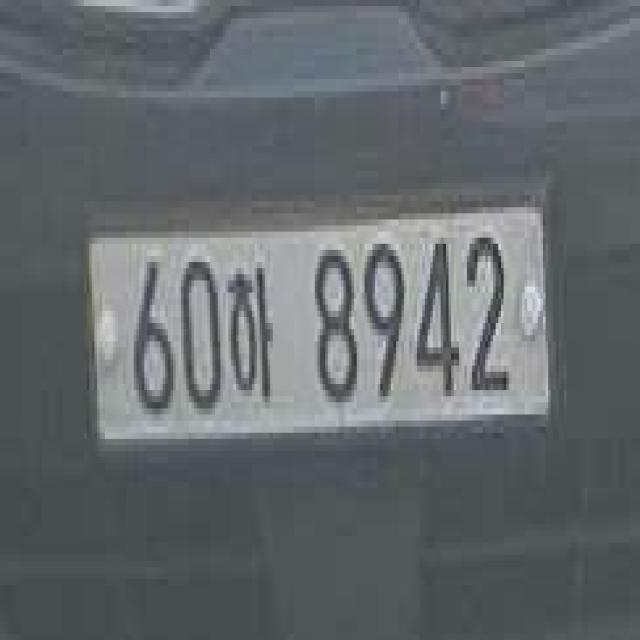0: (178, 247, 223, 418)
2: (463, 222, 512, 399)
4: (411, 235, 462, 408)
6: (128, 247, 174, 420)
8: (310, 234, 360, 404)
9: (363, 238, 408, 410)
ha: (226, 246, 280, 414)
license_plate: (66, 160, 577, 514)
